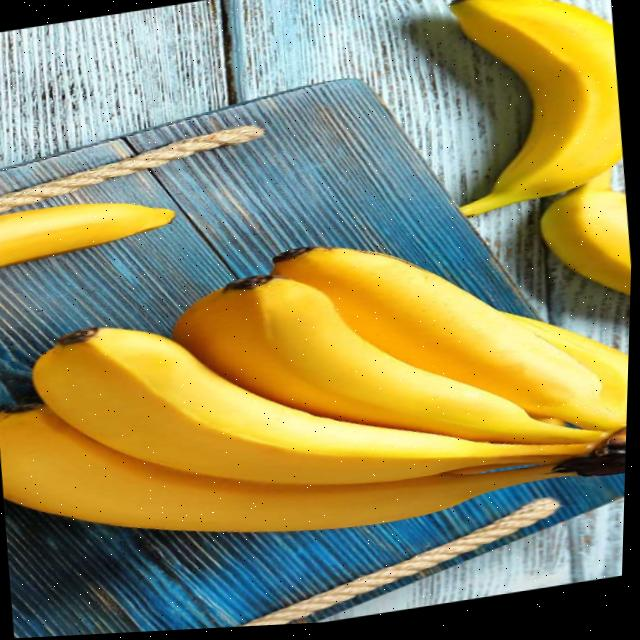Banana: (33, 329, 598, 488), (175, 277, 607, 451), (1, 406, 567, 534), (273, 251, 630, 438), (449, 0, 624, 221), (0, 203, 176, 268), (542, 176, 633, 301)
